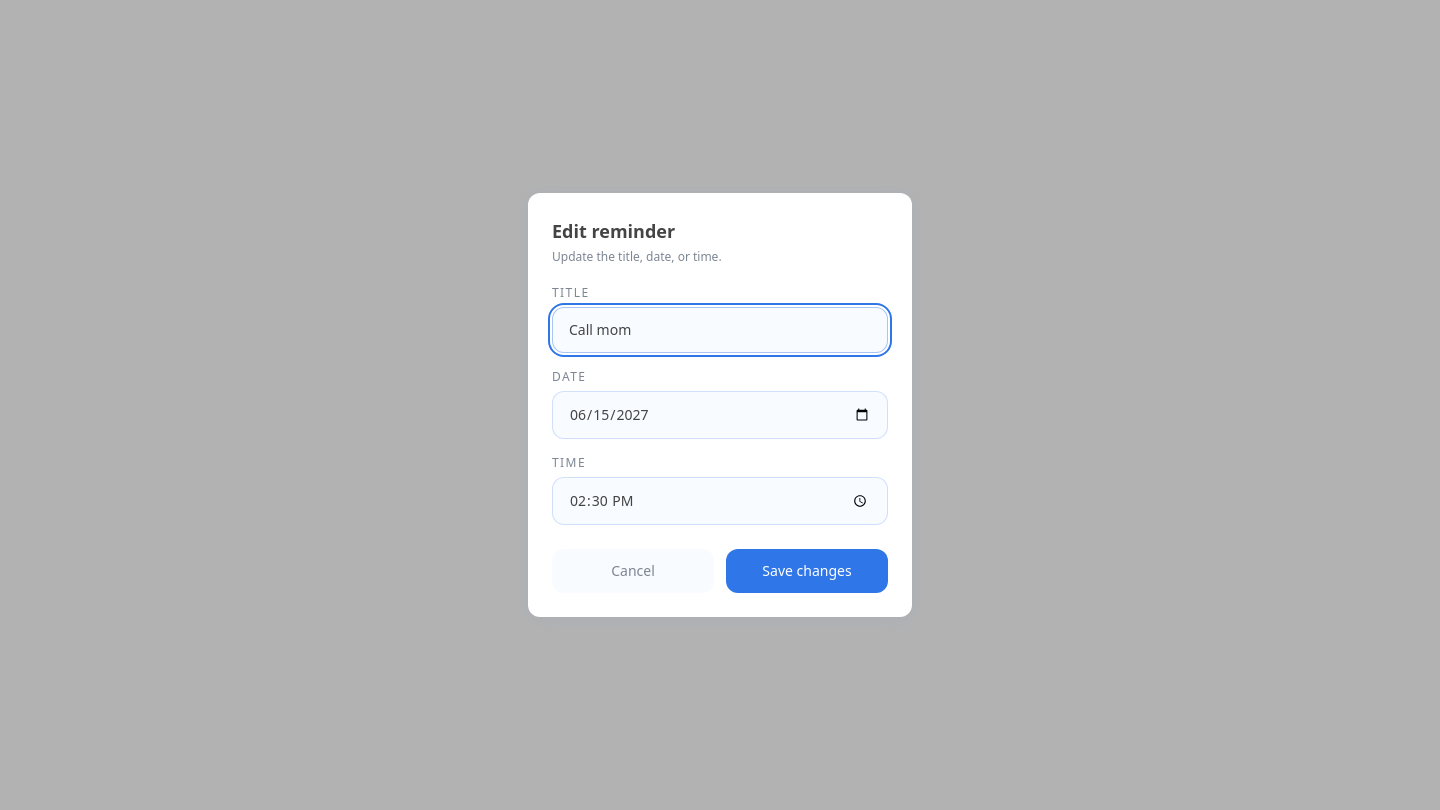
Test: EditReminderModal › disables Save button when title is empty
Clear the field showing "Call mom" at (720, 330), box [552, 307, 888, 353]
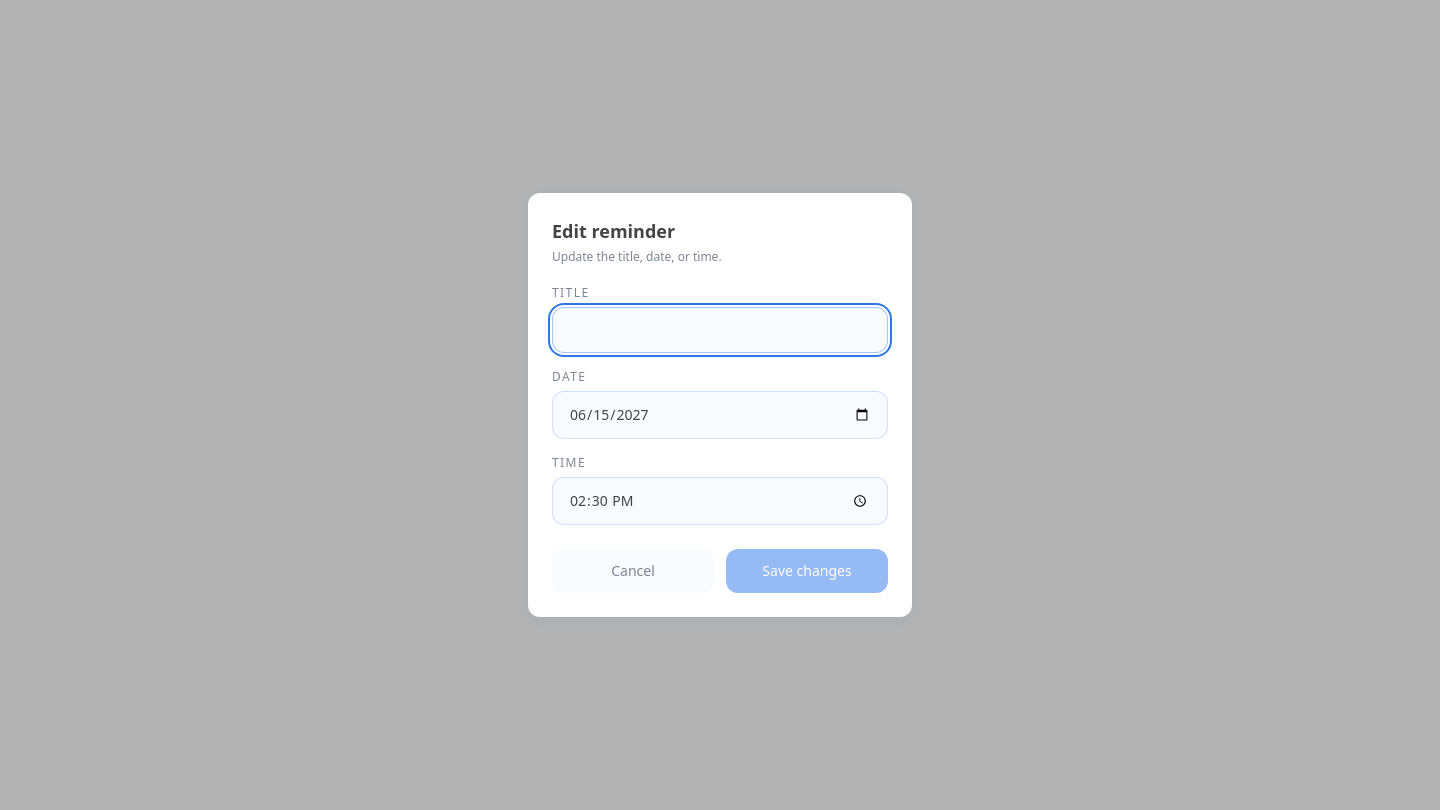
Result: the button "Save changes" is disabled at [726, 549, 888, 593]
